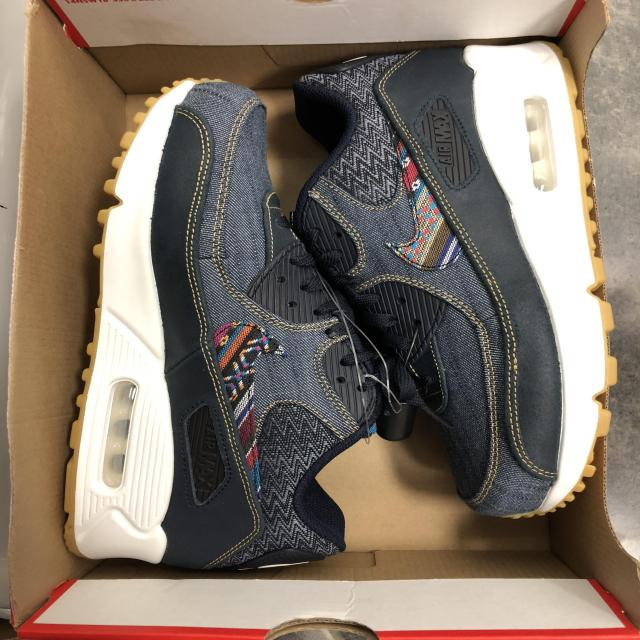shoe: (58, 53, 382, 568), (285, 40, 615, 525)
